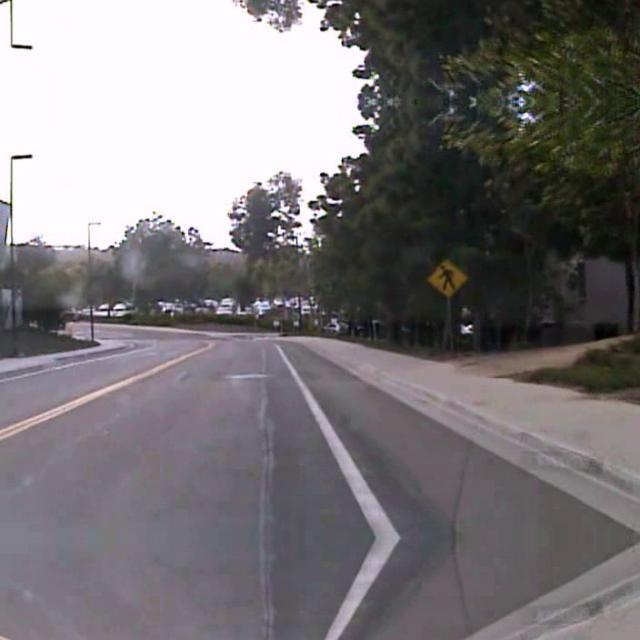pedestrianCrossing: (427, 256, 468, 296)
